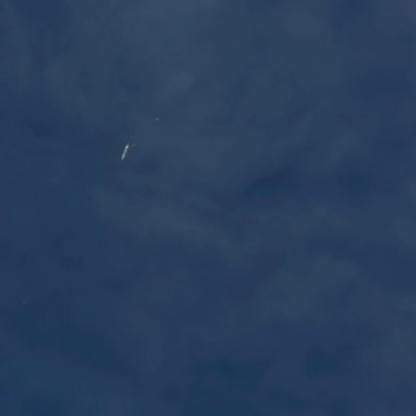ship: (114, 138, 135, 163)
